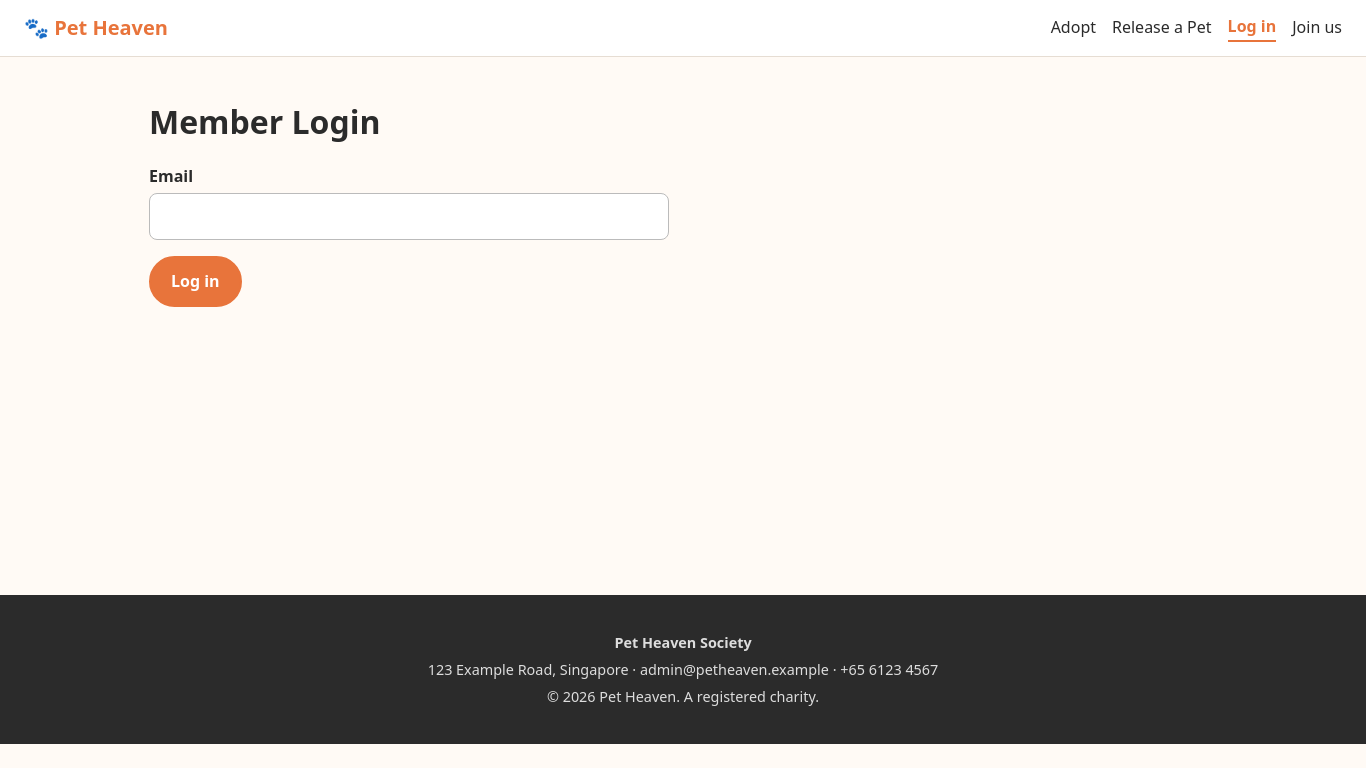
Test case: Membership and access control › shows an error for an unknown email
The image size is (1366, 768).
Type "nobody@example.com" into the field labelled "Email" at (409, 217), box [149, 194, 669, 240]
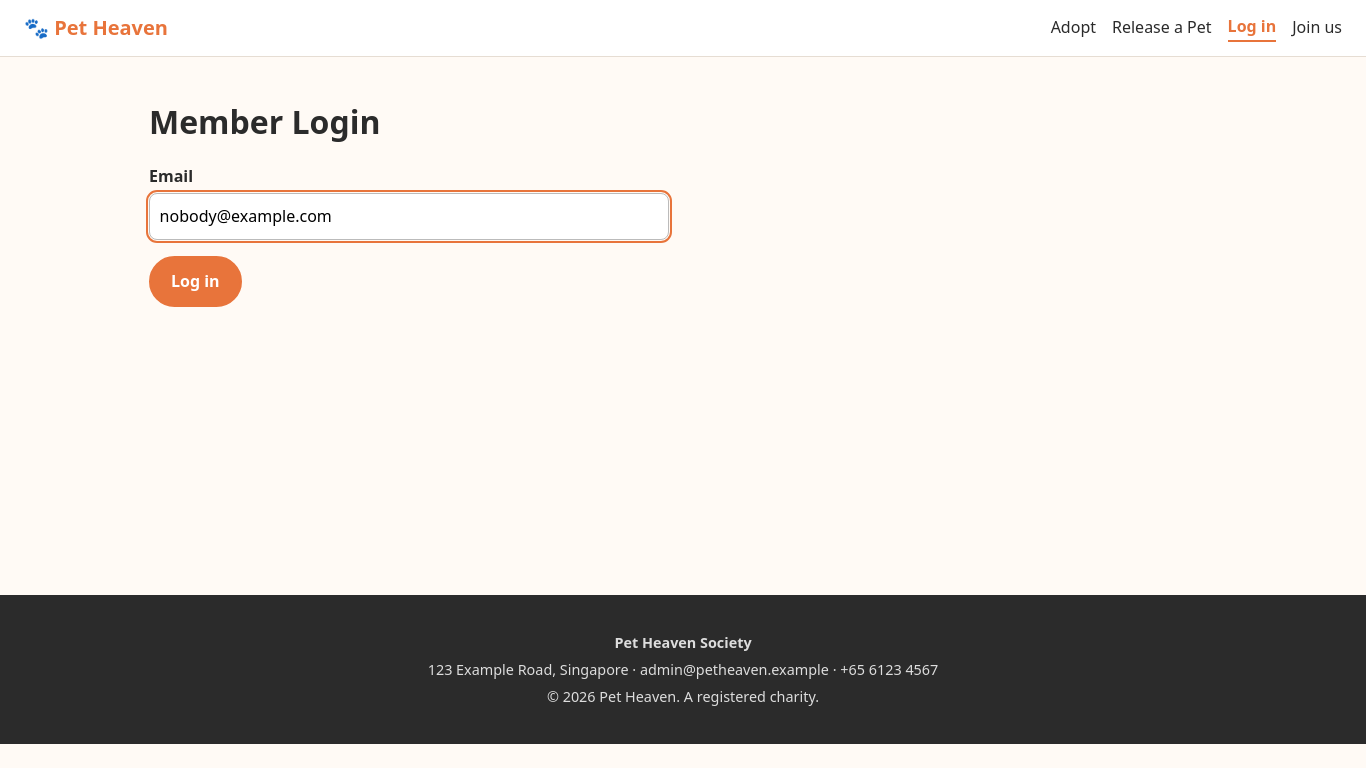
Click the button "Log in" at (195, 282), box [149, 256, 242, 307]
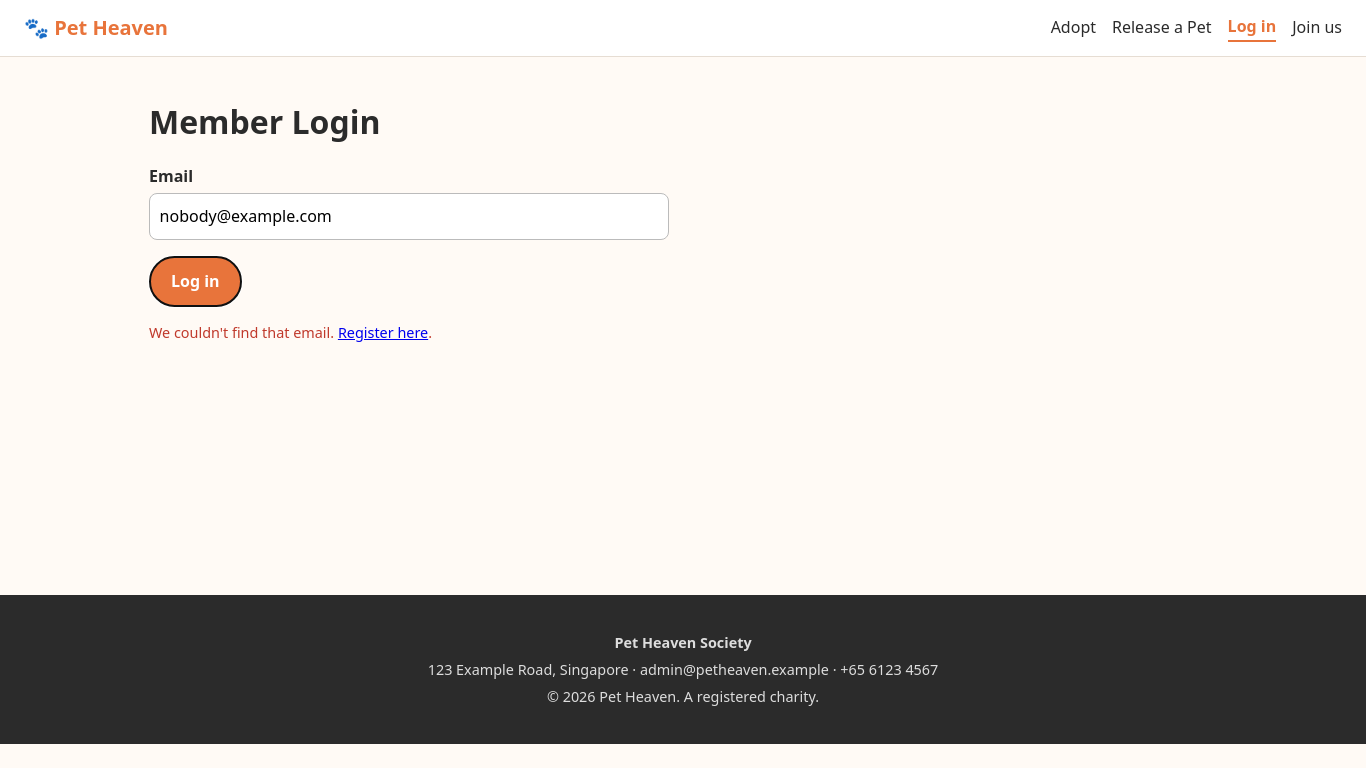
Expected: the text "We couldn't find that email. Register here ." is shown, [149, 323, 432, 342]
